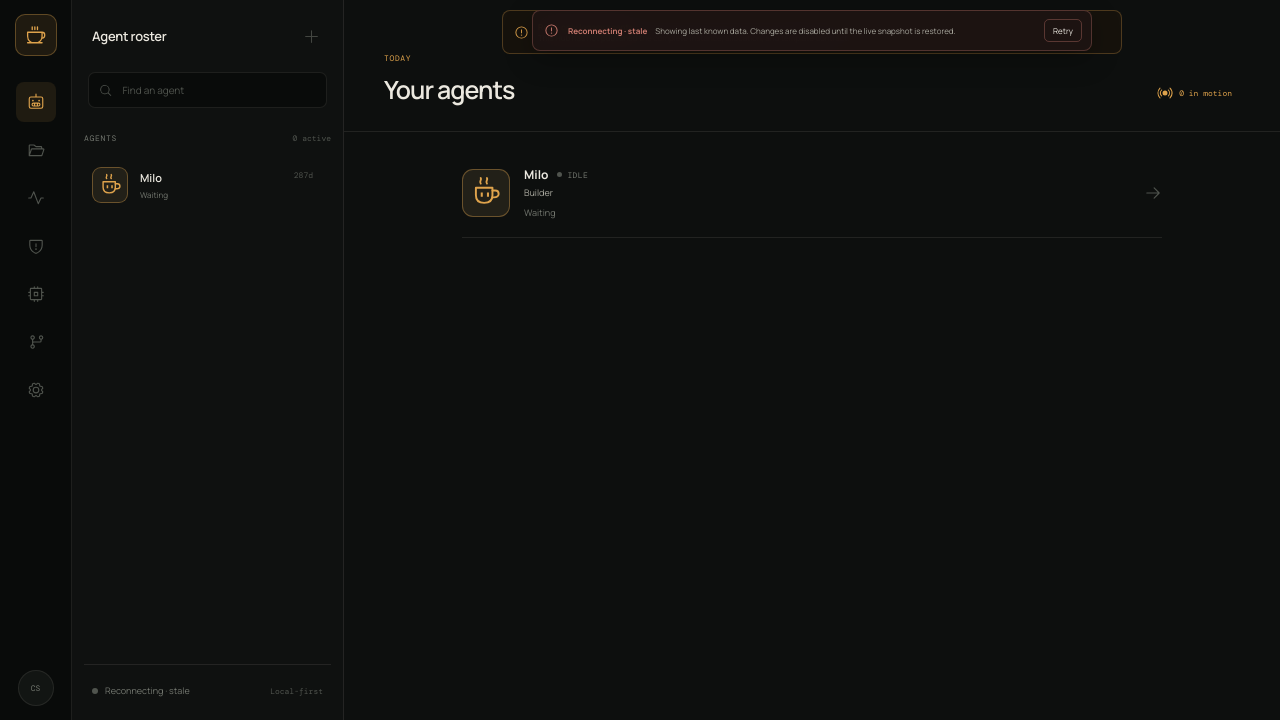
Scenario: connection freshness UI › renders truthful connection state in Settings
This screenshot has width=1280, height=720.
Click the button named "Settings" at (36, 390), box x1=16 y1=370 x2=56 y2=410
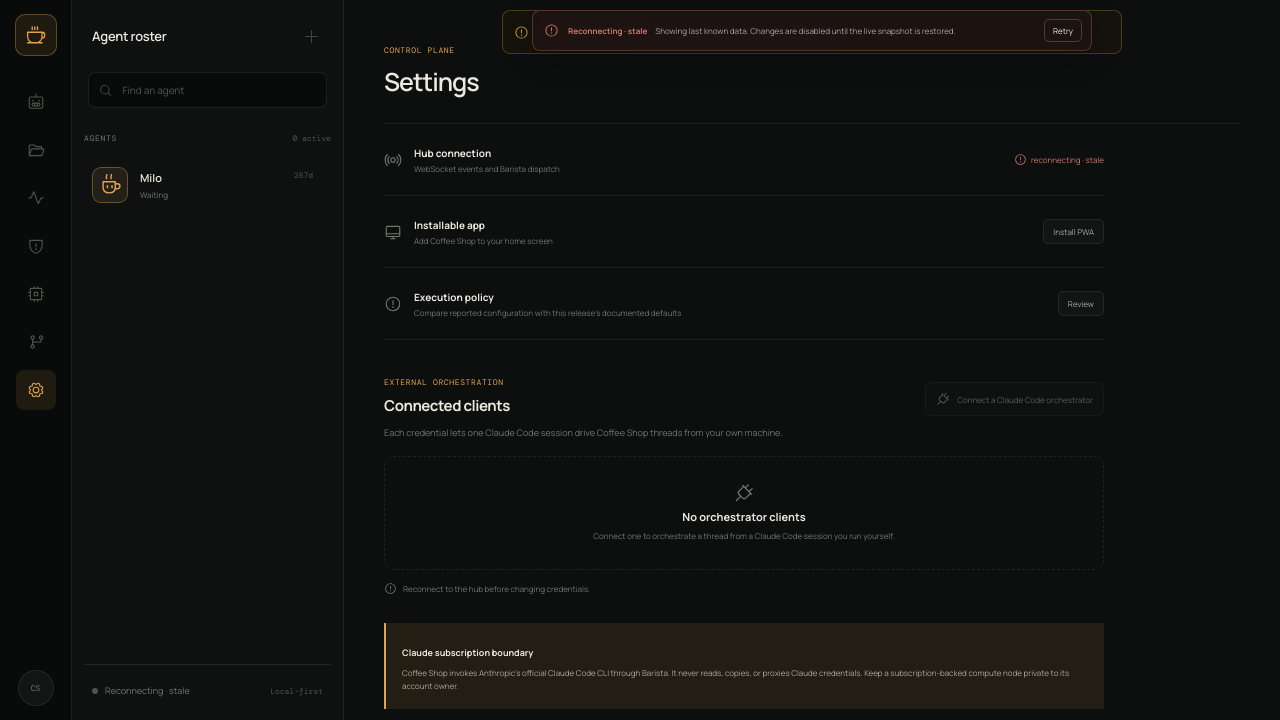
Result: the element with class "stale-label" reads "reconnecting · stale" at x1=1031 y1=154 x2=1104 y2=165
